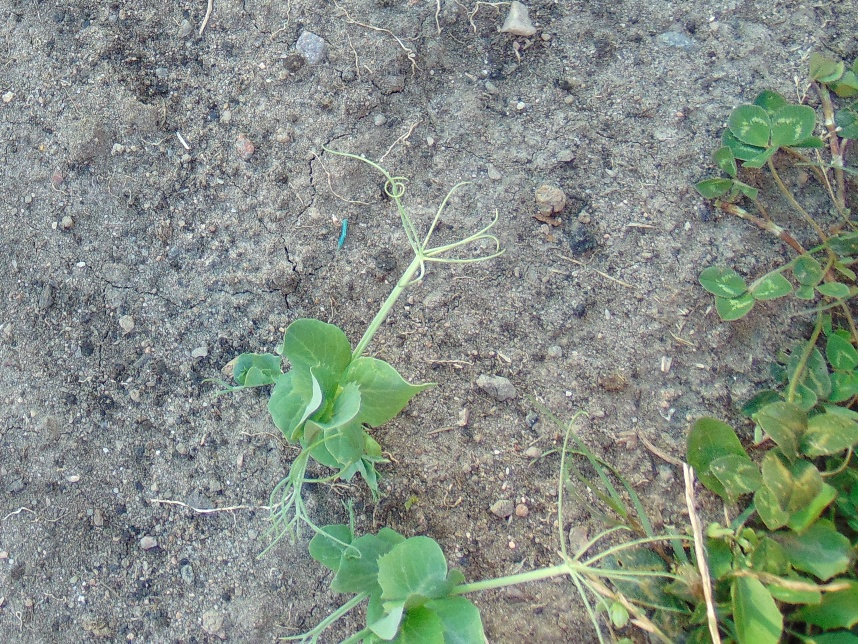crop: (264, 220, 452, 536), (287, 508, 652, 644)
weed: (651, 339, 858, 644), (690, 66, 858, 392), (688, 416, 858, 641)
